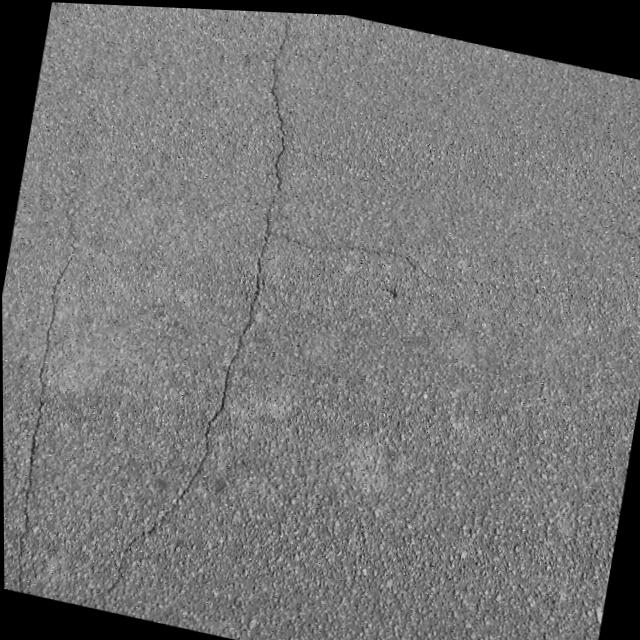Crack: (92, 3, 327, 622), (1, 207, 91, 595), (268, 212, 523, 313)
